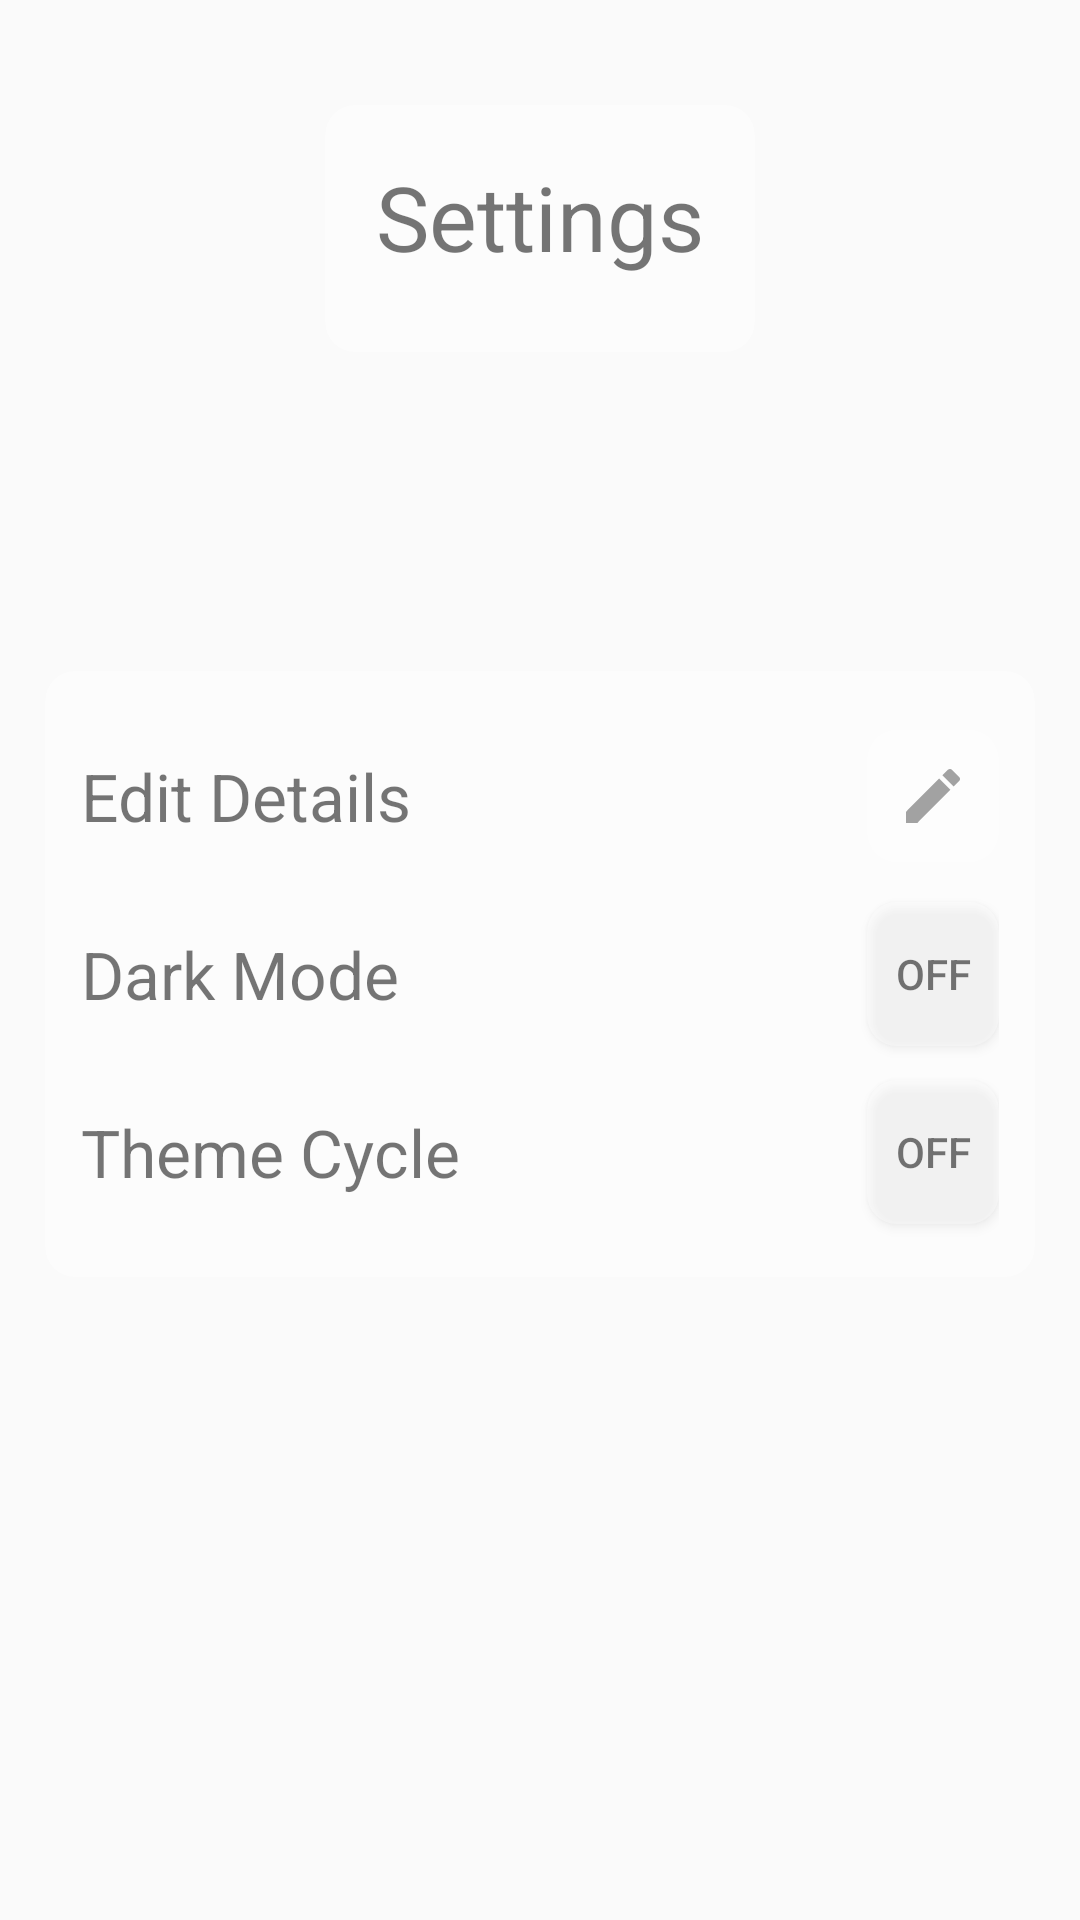

Screen size 1080px x 1920px. Icon name, then its center in pixels as [x,y]:
edit: [933,796]
